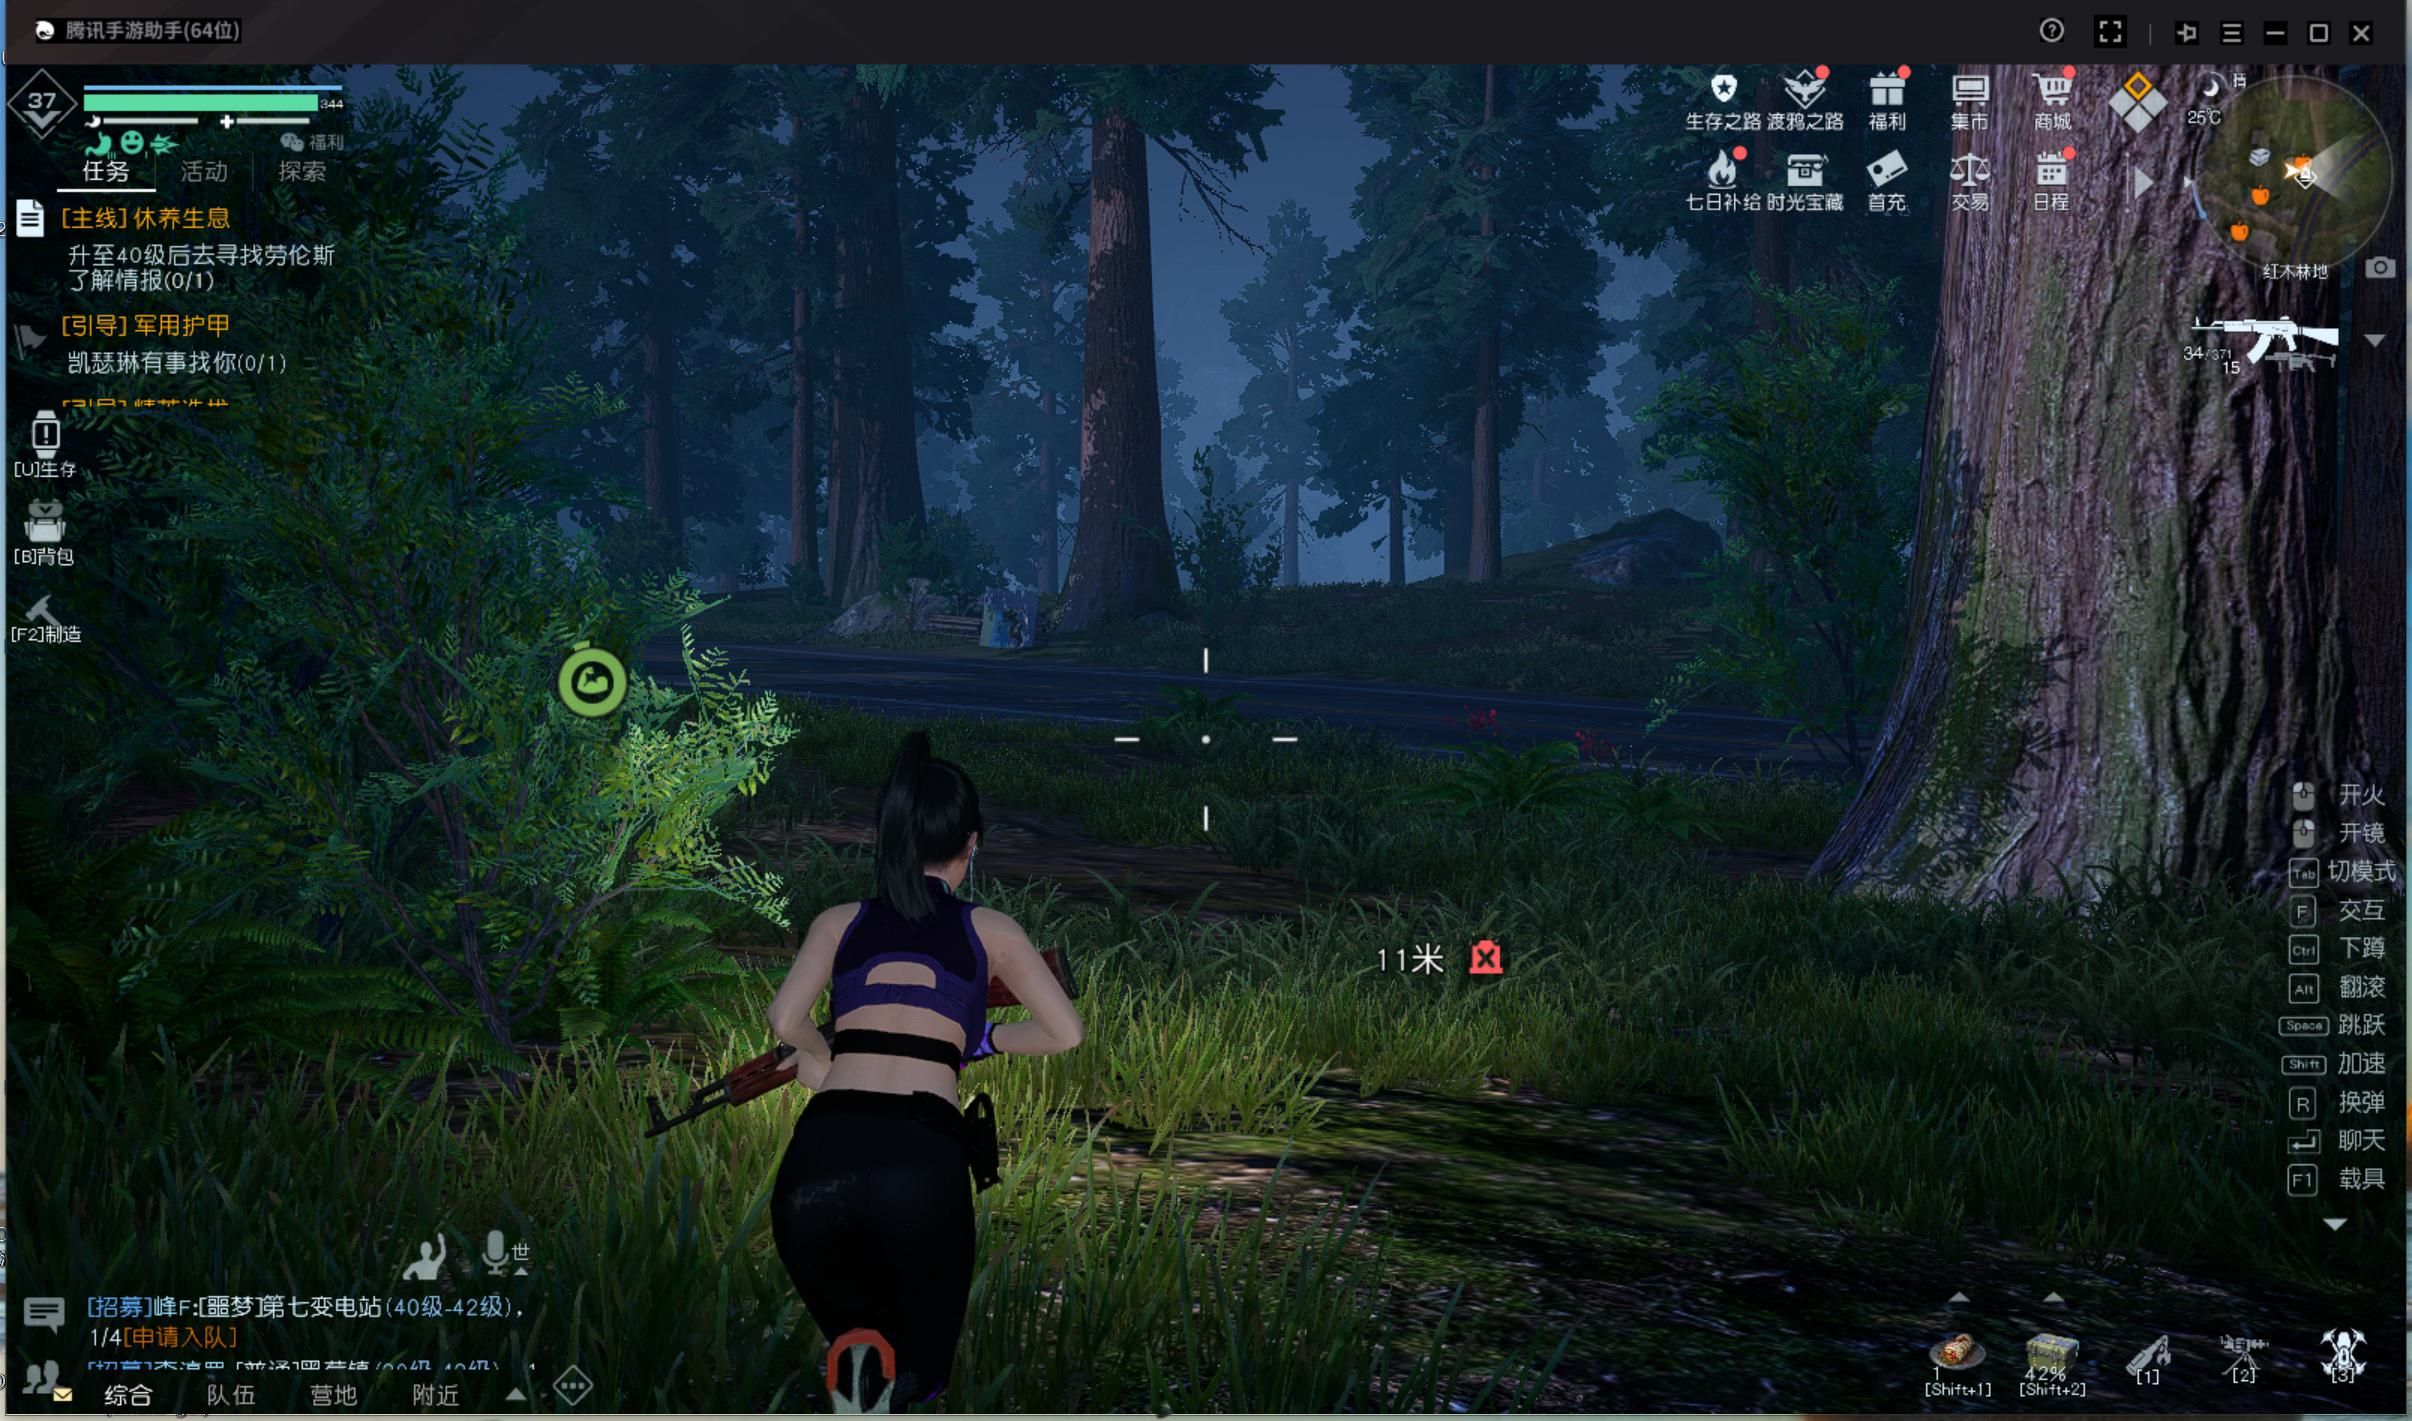tree: (1067, 173, 1181, 661), (836, 147, 925, 655), (633, 222, 678, 628), (1472, 239, 1510, 606), (787, 211, 815, 621)
